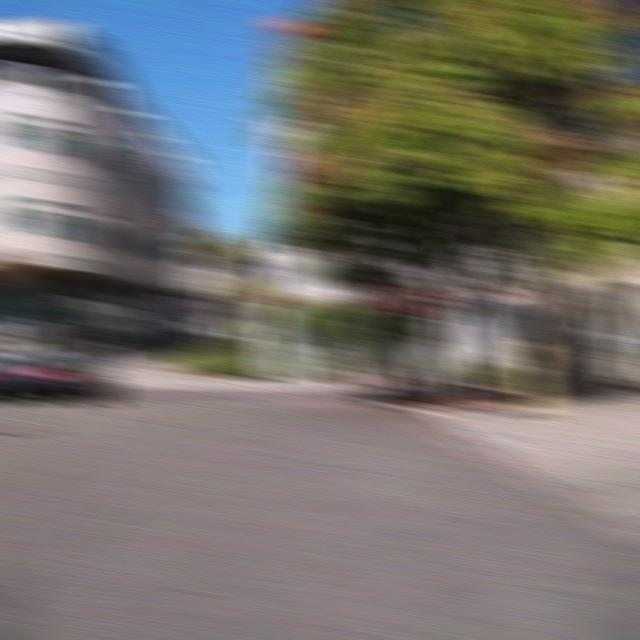stop_sign: (382, 280, 426, 318)
